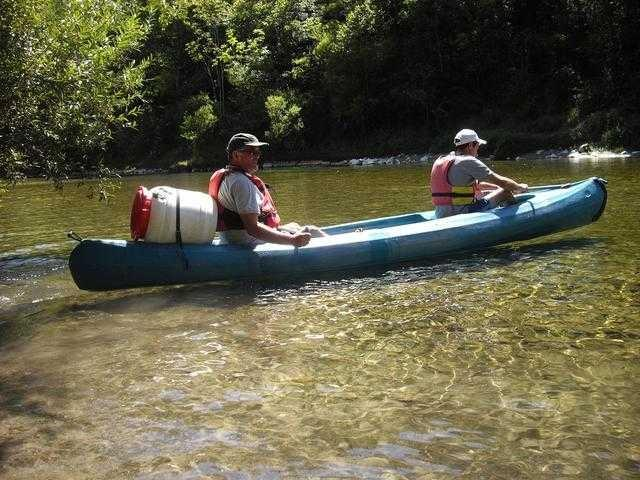kayak: (63, 178, 606, 288)
